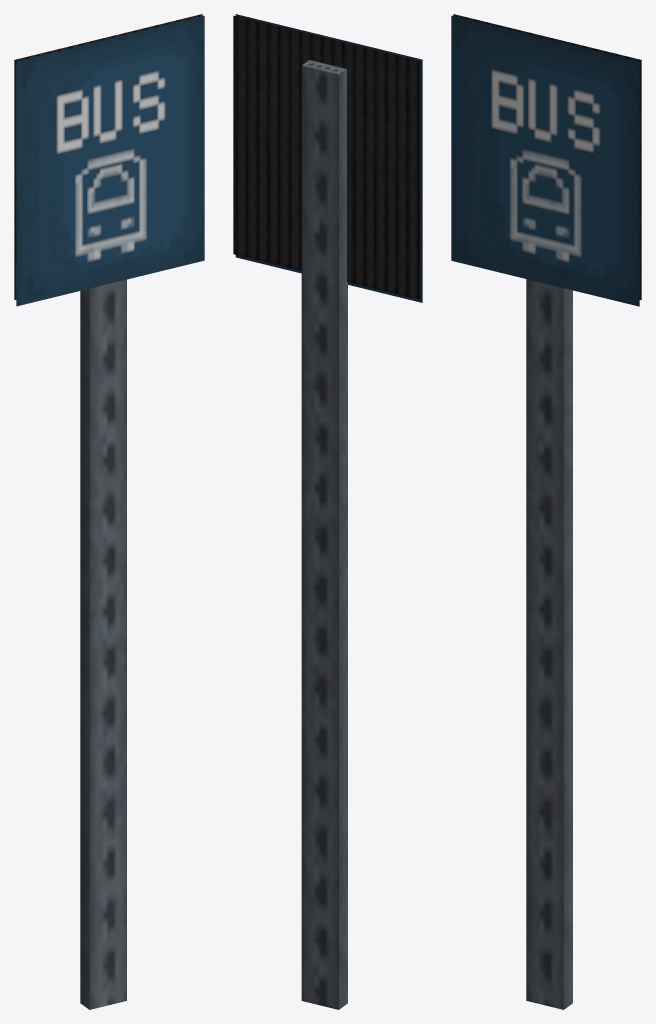
File: BLOCKYGON_SIGN(BUS).fbx
The picture shows the model from 3 angles, left to right: view 1: azimuth 30°, elevation 25°; view 2: azimuth 150°, elevation 25°; view 3: azimuth 330°, elevation 25°; orthographic projection.
Visible parts, largest first — view 1: BLOCKYGON_SIGN_BUS_; view 2: BLOCKYGON_SIGN_BUS_; view 3: BLOCKYGON_SIGN_BUS_.
Boxes of the visible parts, <box> form: BLOCKYGON_SIGN_BUS_: <box>14,14,204,1009</box>; BLOCKYGON_SIGN_BUS_: <box>233,14,422,1009</box>; BLOCKYGON_SIGN_BUS_: <box>451,14,641,1009</box>.
Bounding box in the file's own units: 45.76 × 225 × 4.28.
